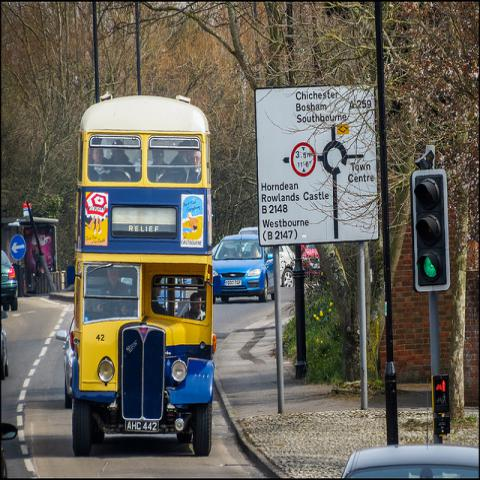bus: (72, 84, 218, 463)
car: (212, 234, 275, 304), (344, 447, 480, 475), (238, 226, 296, 287), (54, 314, 76, 410), (0, 250, 18, 312), (300, 244, 325, 276), (1, 326, 9, 381)
